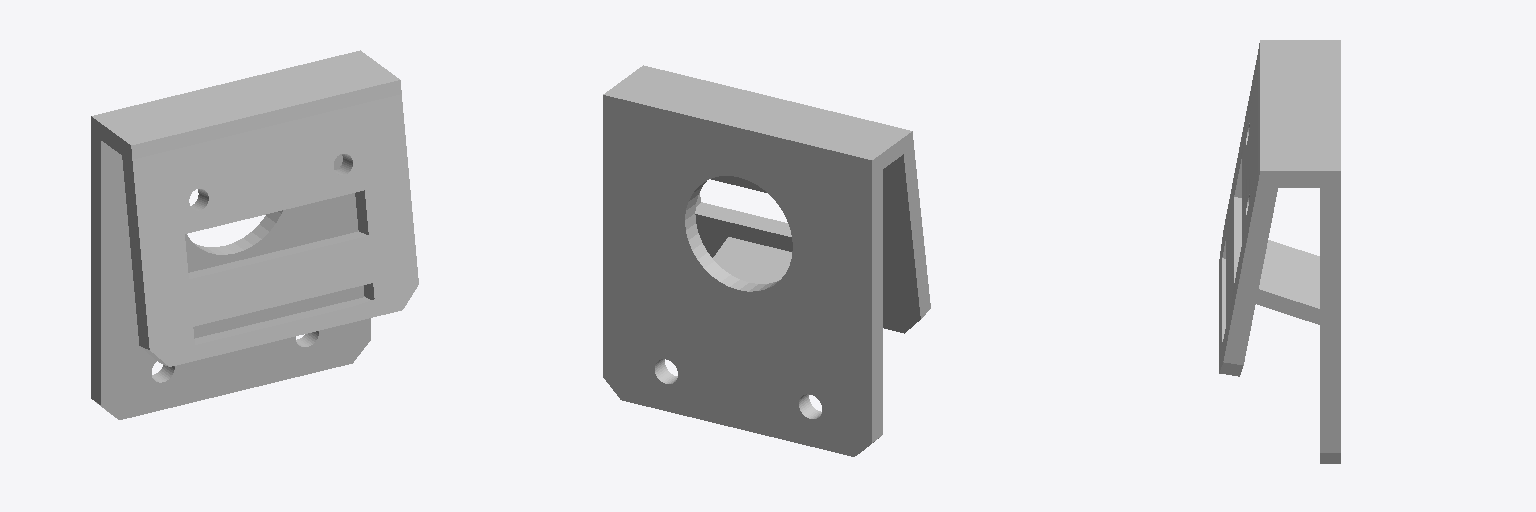
File: mfd.obj
3 views of the same model, side by side, from view 1: azimuth 30°, elevation 25°; view 2: azimuth 150°, elevation 25°; view 3: azimuth 270°, elevation 25° (orthographic).
Visible parts, largest first — view 1: Box001; view 2: Box001; view 3: Box001.
Part boxes in pixels (x1,y1,x2,y2): Box001: (91,50,418,419); Box001: (603,65,930,456); Box001: (1219,40,1340,463).
Bounding box in the file's own units: 74.9 × 80 × 29.18.